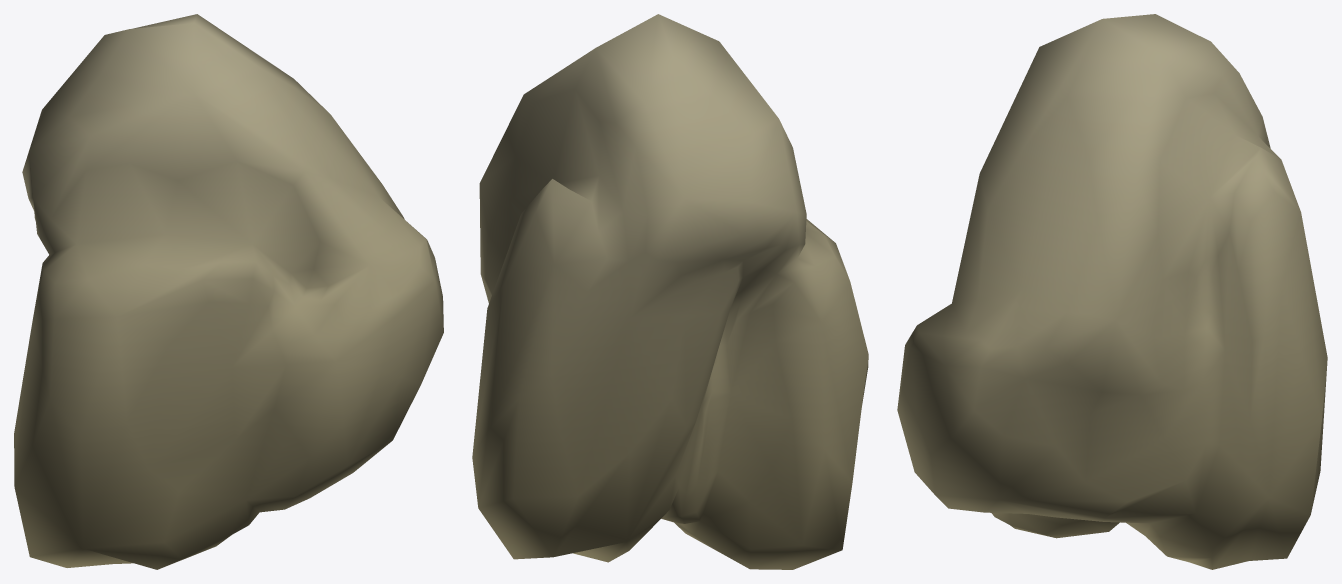
File: Rock_1.FBX
3 renders of one model, left to right at view 1: azimuth 30°, elevation 25°; view 2: azimuth 150°, elevation 25°; view 3: azimuth 270°, elevation 25°, orthographic. The views are drawn at different scales.
Visible parts, largest first — view 1: rock; view 2: rock; view 3: rock.
Boxes of the visible parts, left/top/right/bottom form: rock: left=14, top=14, right=443, bottom=569; rock: left=472, top=14, right=868, bottom=569; rock: left=897, top=14, right=1327, bottom=569.
Bounding box in the file's own units: 3.4 × 4.46 × 3.19.
Materials: 1 (1 with a texture image).
